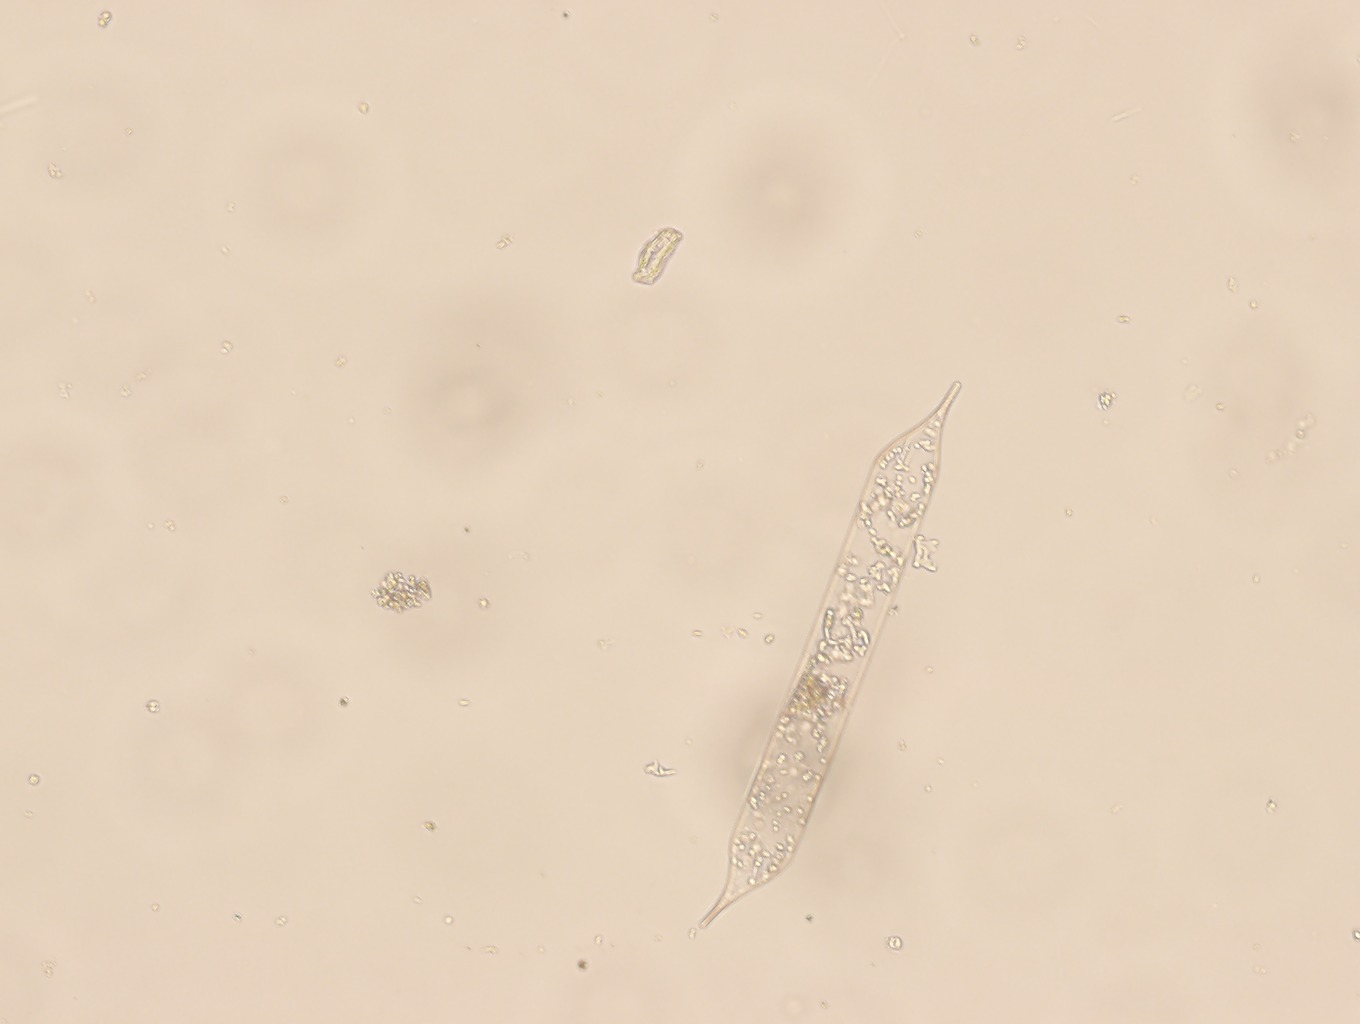rhizosolenia: (684, 370, 965, 936)
